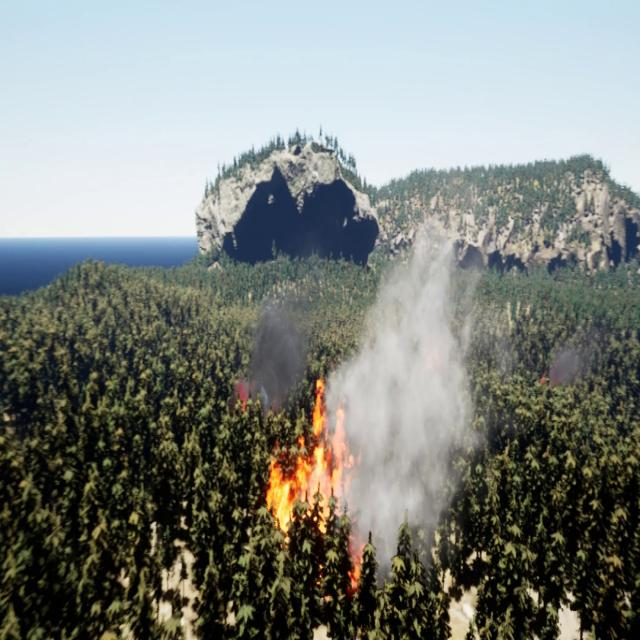fire: (264, 368, 366, 593)
smoke: (321, 212, 485, 588), (252, 306, 306, 412)
